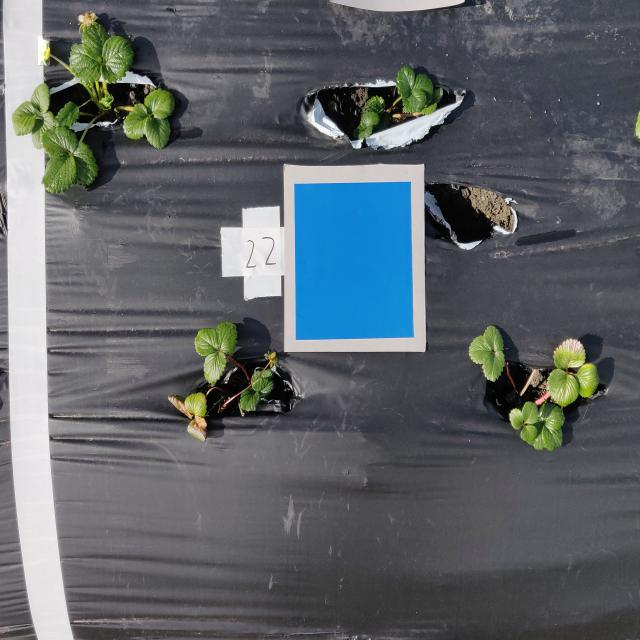Flower: (38, 36, 51, 66)
